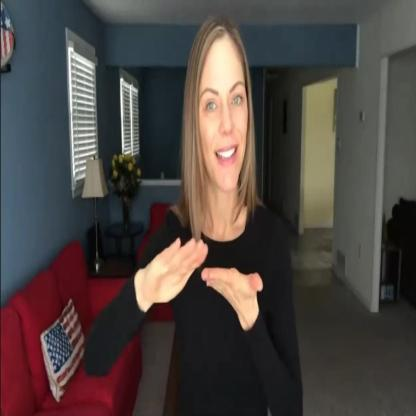NiceToMeetYou: (86, 11, 304, 416)
